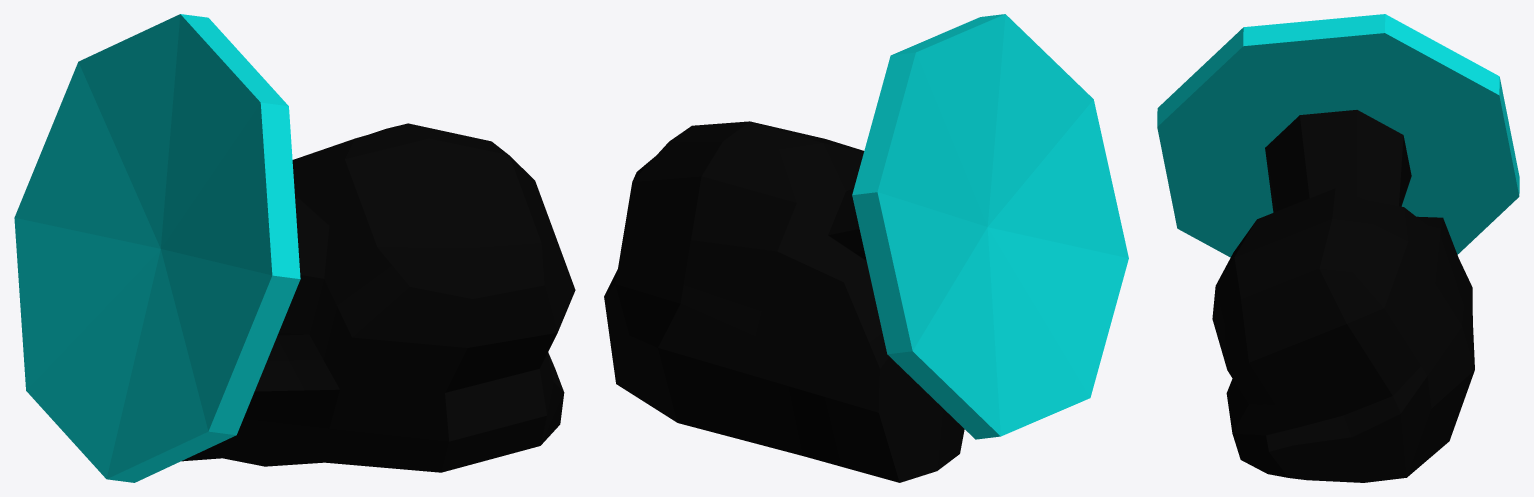
File: SM_SmushedSculpt.fbx
3 renders of one model, left to right at view 1: azimuth 30°, elevation 25°; view 2: azimuth 150°, elevation 25°; view 3: azimuth 270°, elevation 25°, orthographic. The views are drawn at different scales.
Parts seen in each view (by area): view 1: pCube3; view 2: pCube3; view 3: pCube3.
Part boxes in pixels (bbox=[...]): pCube3: bbox=[14, 14, 575, 482]; pCube3: bbox=[604, 14, 1128, 482]; pCube3: bbox=[1157, 14, 1519, 482].
Bounding box in the file's own units: 0.1346 × 0.119 × 0.1144.
